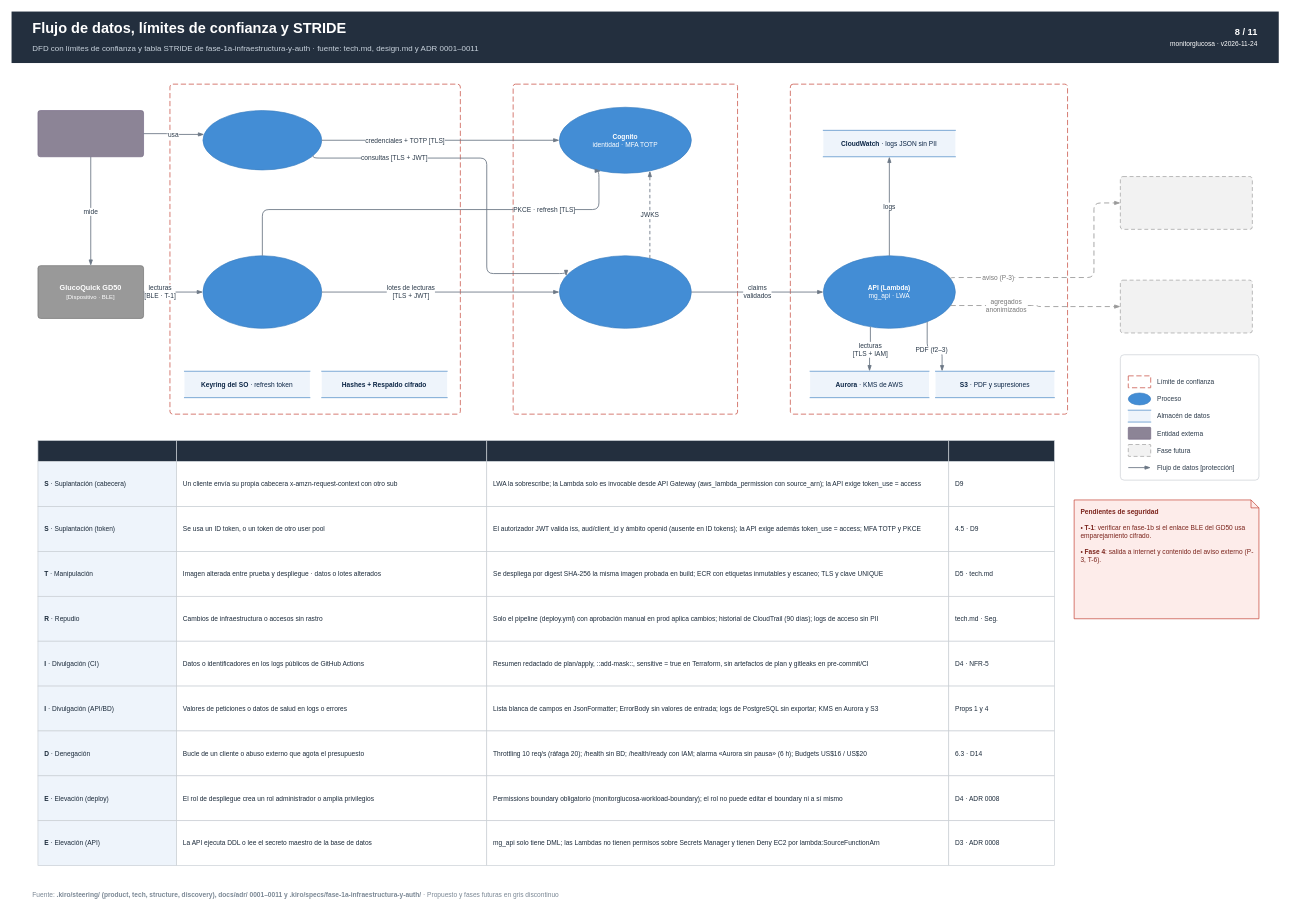
Some shapes in this 1290 by 913 pixel diagram are drawn without their labels. The box of each missing label's shape, as (x1, y1, x2, y2) in pixels:
Amenaza concreta en monitorglucosa: (176, 440, 487, 462)
API Gateway JWT openid · IAM · 10/20: (559, 255, 691, 328)
Categoría STRIDE: (37, 440, 177, 462)
Colector + Importador valida, normaliza y envía: (202, 255, 322, 328)
Fuente: (948, 440, 1054, 462)
Leyenda: (1120, 354, 1259, 480)
Luis [Entidad externa]: (37, 110, 144, 157)
Límite 1 · equipo local de Luis: (169, 83, 460, 414)
Límite 2 · borde público de AWS: (512, 83, 738, 414)
Límite 3 · AWS us-east-1 (VPC privada · ADR 0011): (790, 83, 1068, 414)
Mitigación implementada / decidida: (486, 440, 949, 462)
Navegador sitio web: (202, 110, 322, 170)
Proveedor de AI [Externo · fase 4]: (1120, 280, 1252, 333)
WhatsApp [Externo · fase 4]: (1120, 176, 1252, 229)
